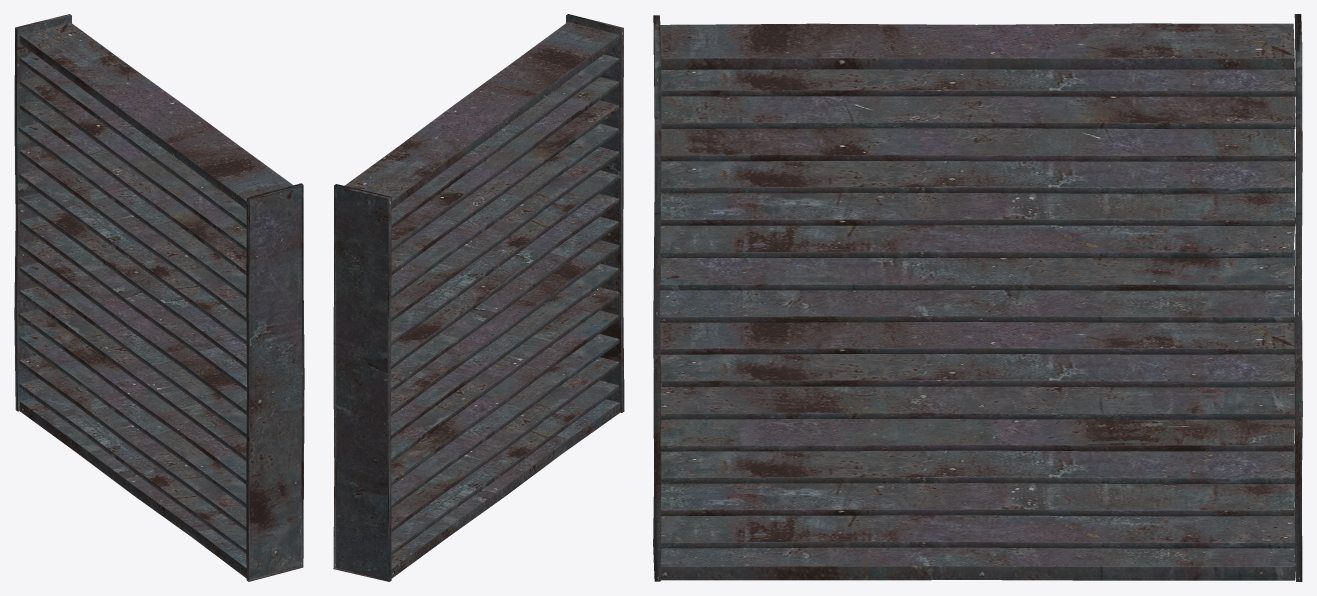
Rendered from SM_WineRackB.FBX.
3 views of the same model, side by side, from view 1: azimuth 30°, elevation 25°; view 2: azimuth 150°, elevation 25°; view 3: azimuth 270°, elevation 25° (orthographic). The views are drawn at different scales.
Parts seen in each view (by area): view 1: SM_WineRackB; view 2: SM_WineRackB; view 3: SM_WineRackB.
Boxes of the visible parts, <box> form: SM_WineRackB: <box>14,14,304,581</box>; SM_WineRackB: <box>333,14,624,581</box>; SM_WineRackB: <box>653,14,1302,581</box>.
Bounding box in the file's own units: 27.79 × 181 × 201.
